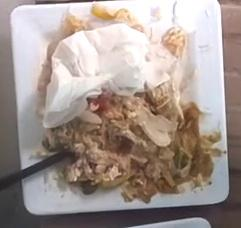taco_mix: (46, 93, 212, 202)
